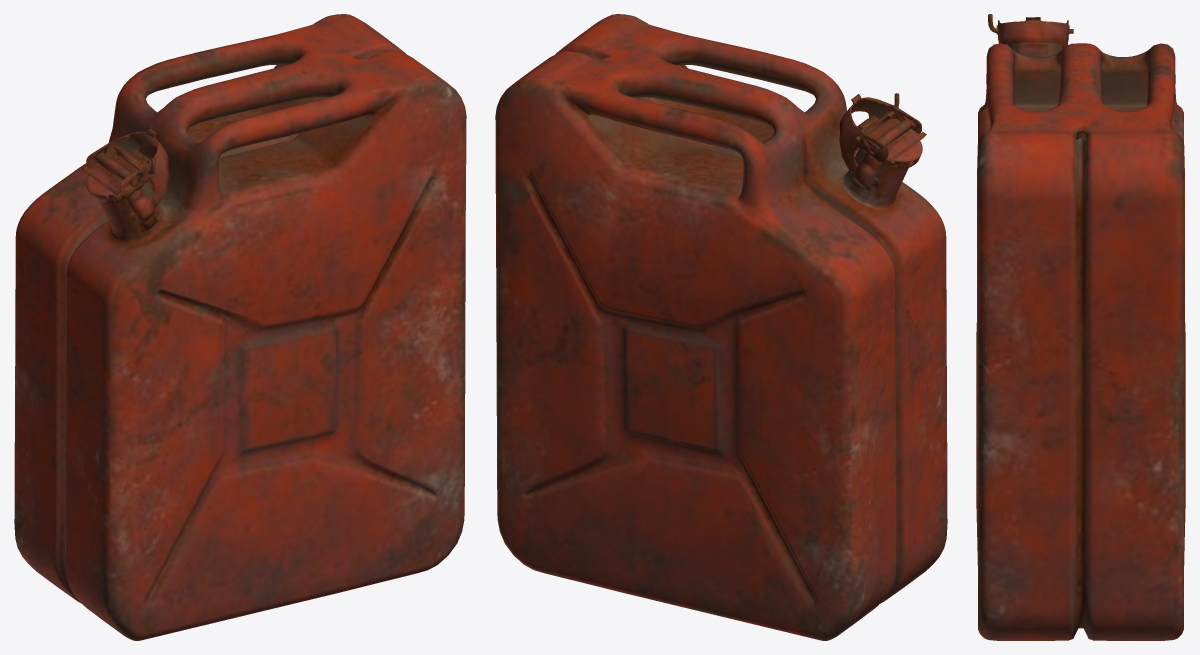
Rendered from metal_jerrycan.glb.
The picture shows the model from 3 angles, left to right: view 1: azimuth 30°, elevation 25°; view 2: azimuth 150°, elevation 25°; view 3: azimuth 270°, elevation 25°; orthographic projection. The views are drawn at different scales.
Visible parts, largest first — view 1: metal_jerrycan; view 2: metal_jerrycan; view 3: metal_jerrycan.
Boxes of the visible parts, bbox=[...] form: metal_jerrycan: bbox=[14, 14, 466, 640]; metal_jerrycan: bbox=[495, 14, 947, 640]; metal_jerrycan: bbox=[976, 14, 1185, 640].
Bounding box in the file's own units: 0.3503 × 0.4552 × 0.1717.
1 material, 1 textured.
